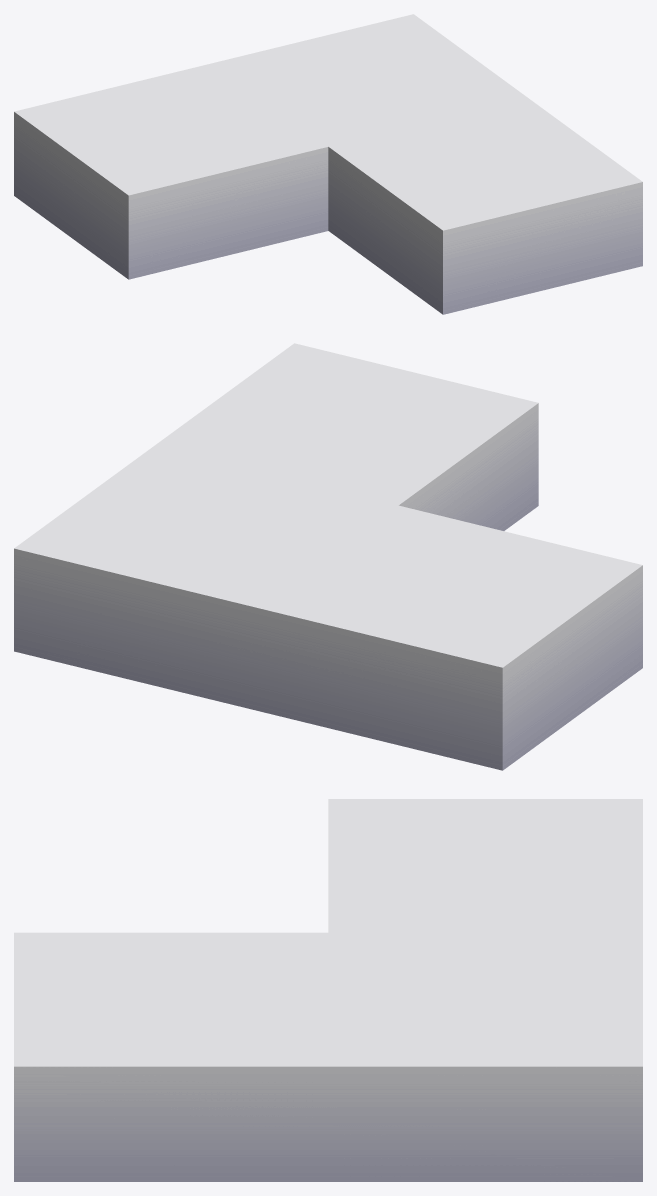
File: brick-kit--none-lq-plate-corner.glb
3 views of the same model, one above another, from view 1: azimuth 30°, elevation 25°; view 2: azimuth 150°, elevation 25°; view 3: azimuth 270°, elevation 25° (orthographic). The views are drawn at different scales.
Visible parts, largest first — view 1: none-lq-plate-corner; view 2: none-lq-plate-corner; view 3: none-lq-plate-corner.
Boxes of the visible parts, x1,y1,x2,y2 form: none-lq-plate-corner: [14, 14, 642, 314]; none-lq-plate-corner: [14, 343, 642, 770]; none-lq-plate-corner: [14, 799, 642, 1181].
Bounding box in the file's own units: 0.159 × 0.032 × 0.158.
1 material, 1 textured.
